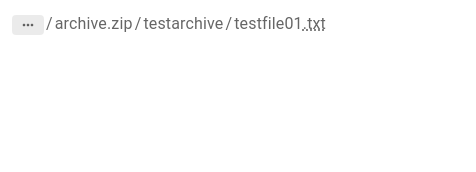
Scenario: ClickableFilePath › keeps the toggle heading the trail in both states
Step 1. Click the button → (28, 25), box left=12, top=15, right=44, bottom=35
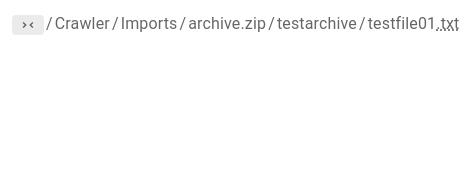
expect the list shows "Crawler": met, box left=55, top=14, right=110, bottom=33
